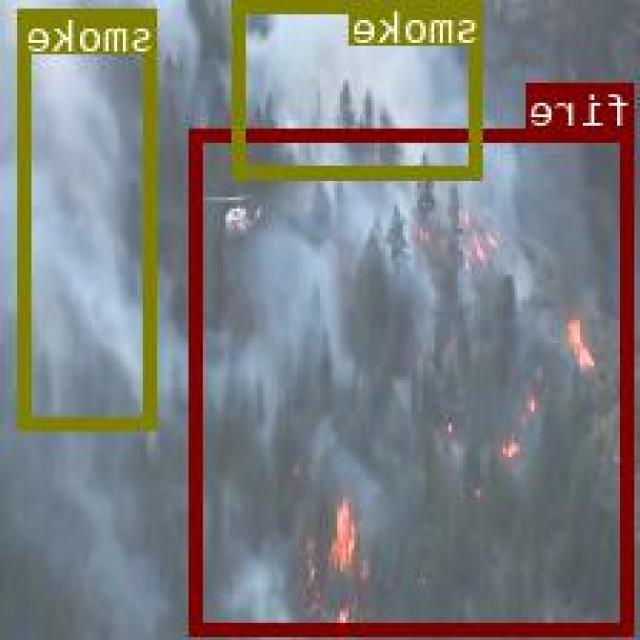fire: (194, 128, 636, 633)
smoke: (22, 6, 158, 426), (234, 0, 486, 177)
